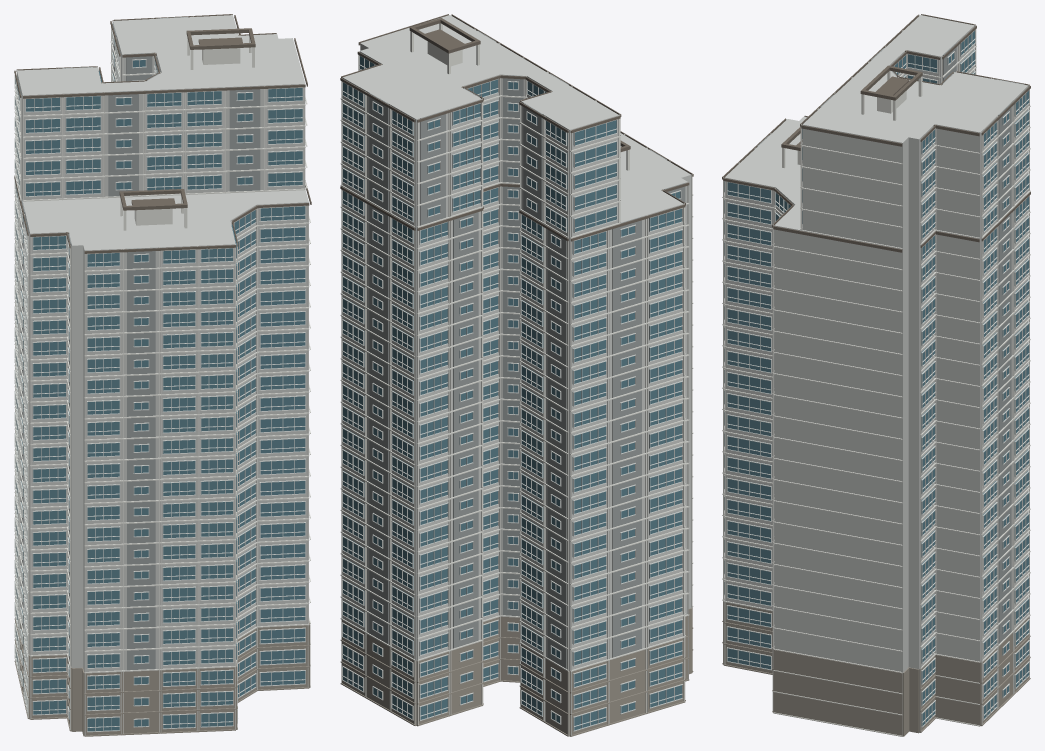
The model's file is bespoke-banpo-xi-115.glb.
3 views of the same model, side by side, from view 1: azimuth 30°, elevation 25°; view 2: azimuth 150°, elevation 25°; view 3: azimuth 270°, elevation 25° (orthographic). The views are drawn at different scales.
Visible parts, largest first — view 1: BX115_editable_BX115_pale_silver_limestone, BX115_editable_BX115_blue_grey_broad_glazing, BX115_editable_BX115_white_window_frames, BX115_editable_BX115_ivory_course_bands, BX115_editable_BX115_grey_service_core, BX115_editable_BX115_warm_ground_stone, BX115_editable_BX115_dark_coping; view 2: BX115_editable_BX115_blue_grey_broad_glazing, BX115_editable_BX115_pale_silver_limestone, BX115_editable_BX115_white_window_frames, BX115_editable_BX115_grey_service_core, BX115_editable_BX115_ivory_course_bands, BX115_editable_BX115_warm_ground_stone, BX115_editable_BX115_dark_coping; view 3: BX115_editable_BX115_pale_silver_limestone, BX115_editable_BX115_blue_grey_broad_glazing, BX115_editable_BX115_ivory_course_bands, BX115_editable_BX115_white_window_frames, BX115_editable_BX115_warm_ground_stone, BX115_editable_BX115_grey_service_core, BX115_editable_BX115_dark_coping.
Boxes of the visible parts, x1=… form: BX115_editable_BX115_pale_silver_limestone: x1=17, y1=15, x2=308, y2=735; BX115_editable_BX115_blue_grey_broad_glazing: x1=15, y1=40, x2=305, y2=731; BX115_editable_BX115_white_window_frames: x1=14, y1=31, x2=305, y2=732; BX115_editable_BX115_ivory_course_bands: x1=14, y1=14, x2=310, y2=735; BX115_editable_BX115_grey_service_core: x1=20, y1=17, x2=260, y2=670; BX115_editable_BX115_warm_ground_stone: x1=14, y1=618, x2=310, y2=736; BX115_editable_BX115_dark_coping: x1=14, y1=14, x2=311, y2=253; BX115_editable_BX115_blue_grey_broad_glazing: x1=343, y1=56, x2=681, y2=730; BX115_editable_BX115_pale_silver_limestone: x1=342, y1=15, x2=691, y2=735; BX115_editable_BX115_white_window_frames: x1=342, y1=55, x2=683, y2=731; BX115_editable_BX115_grey_service_core: x1=369, y1=30, x2=685, y2=668; BX115_editable_BX115_ivory_course_bands: x1=340, y1=14, x2=693, y2=736; BX115_editable_BX115_warm_ground_stone: x1=340, y1=607, x2=693, y2=736; BX115_editable_BX115_dark_coping: x1=340, y1=14, x2=693, y2=241; BX115_editable_BX115_pale_silver_limestone: x1=724, y1=15, x2=1028, y2=736; BX115_editable_BX115_blue_grey_broad_glazing: x1=724, y1=31, x2=1028, y2=726; BX115_editable_BX115_ivory_course_bands: x1=722, y1=15, x2=1030, y2=736; BX115_editable_BX115_white_window_frames: x1=724, y1=29, x2=1029, y2=727; BX115_editable_BX115_warm_ground_stone: x1=722, y1=601, x2=1030, y2=736; BX115_editable_BX115_grey_service_core: x1=757, y1=43, x2=1024, y2=643; BX115_editable_BX115_dark_coping: x1=722, y1=14, x2=1030, y2=252.
Bounding box in the file's own units: 39.17 × 78.5 × 35.59.
